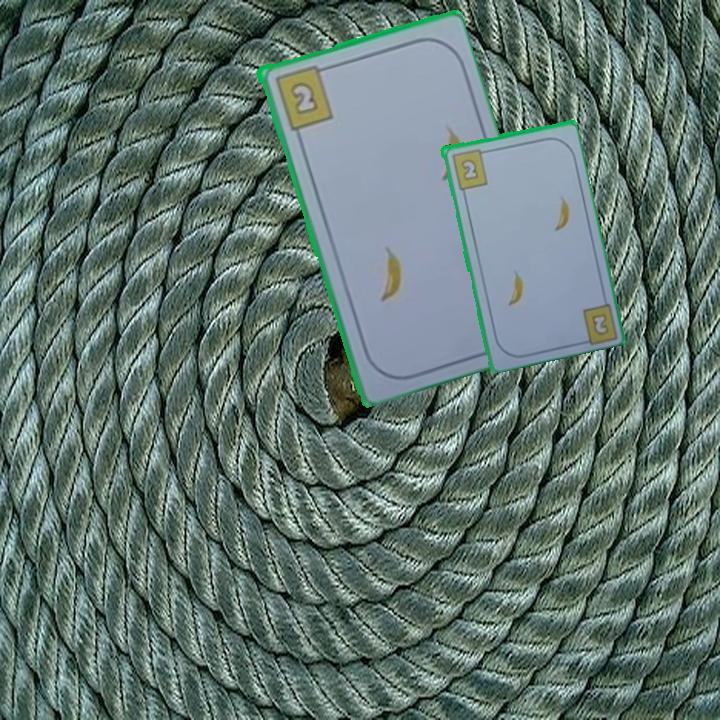2b: (270, 61, 336, 133), (448, 145, 490, 192), (590, 312, 609, 336)
